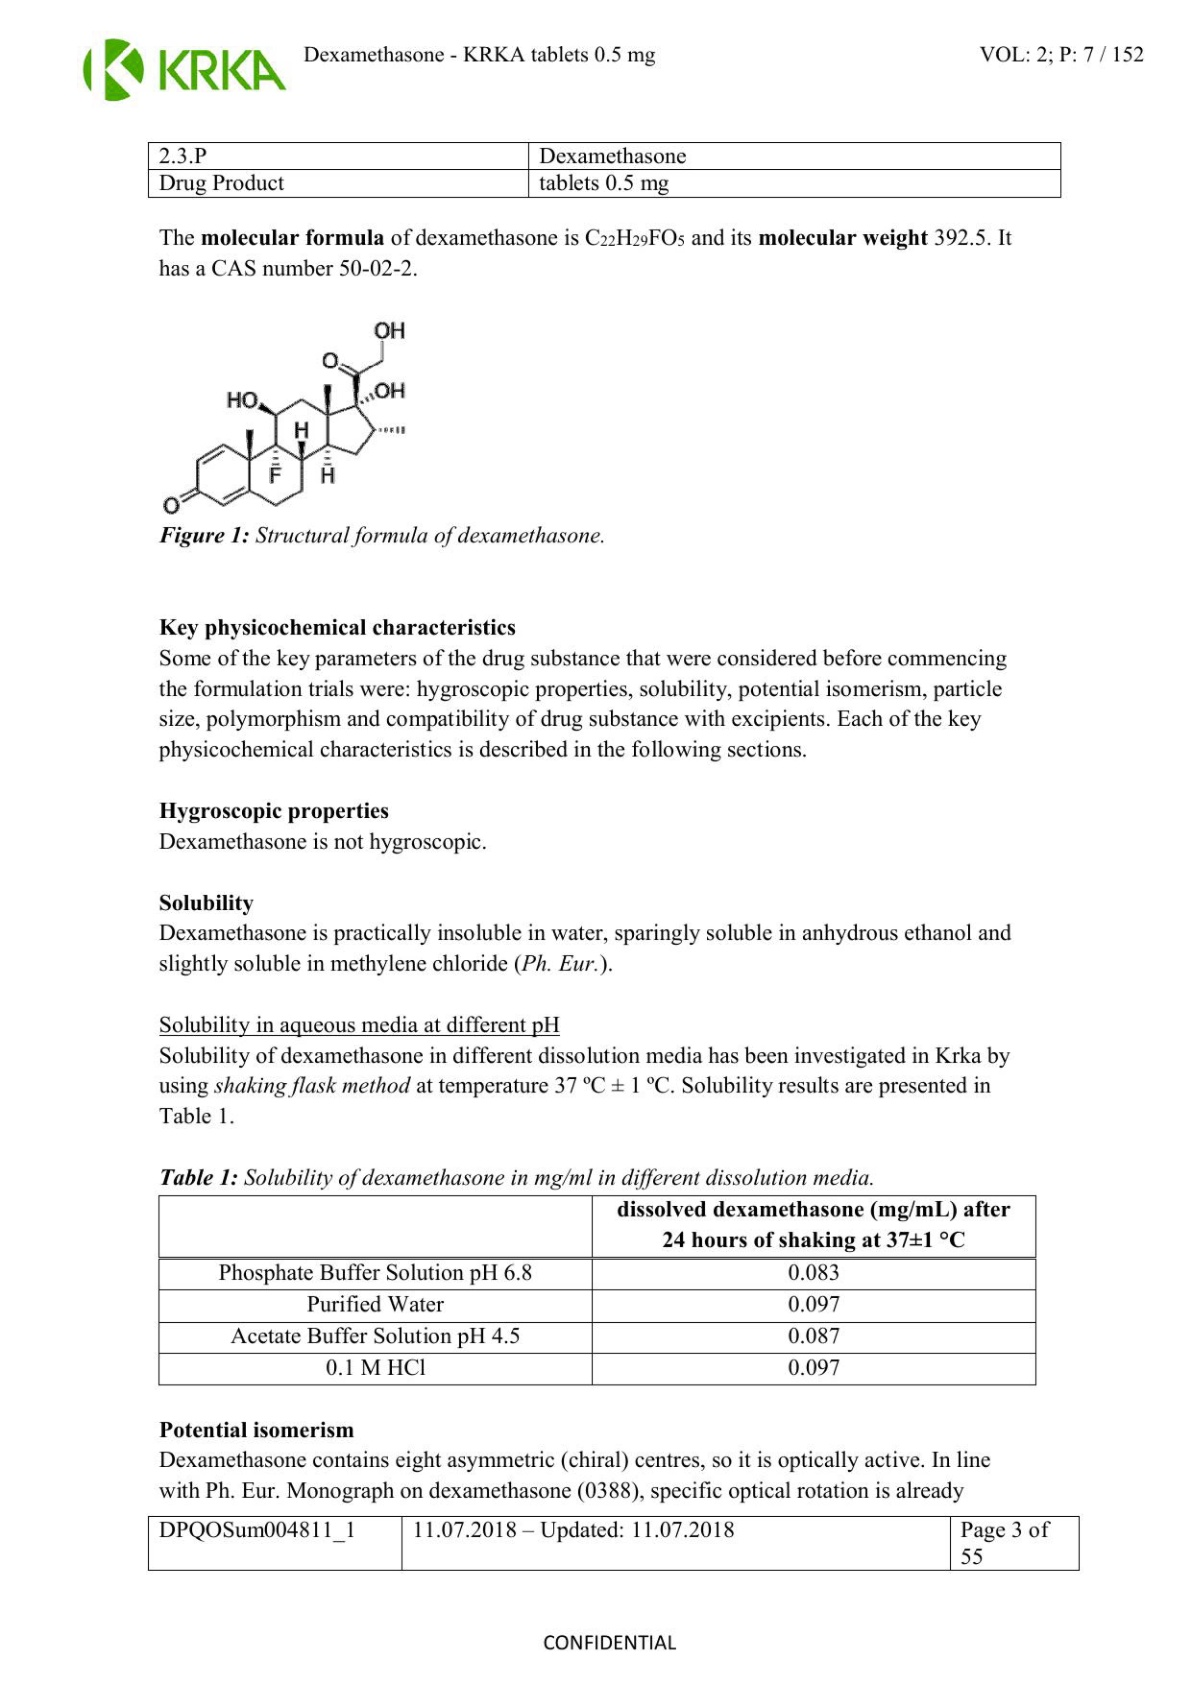full_lined: (157, 1194, 1037, 1386), (147, 141, 1062, 199), (146, 1515, 1080, 1572)
